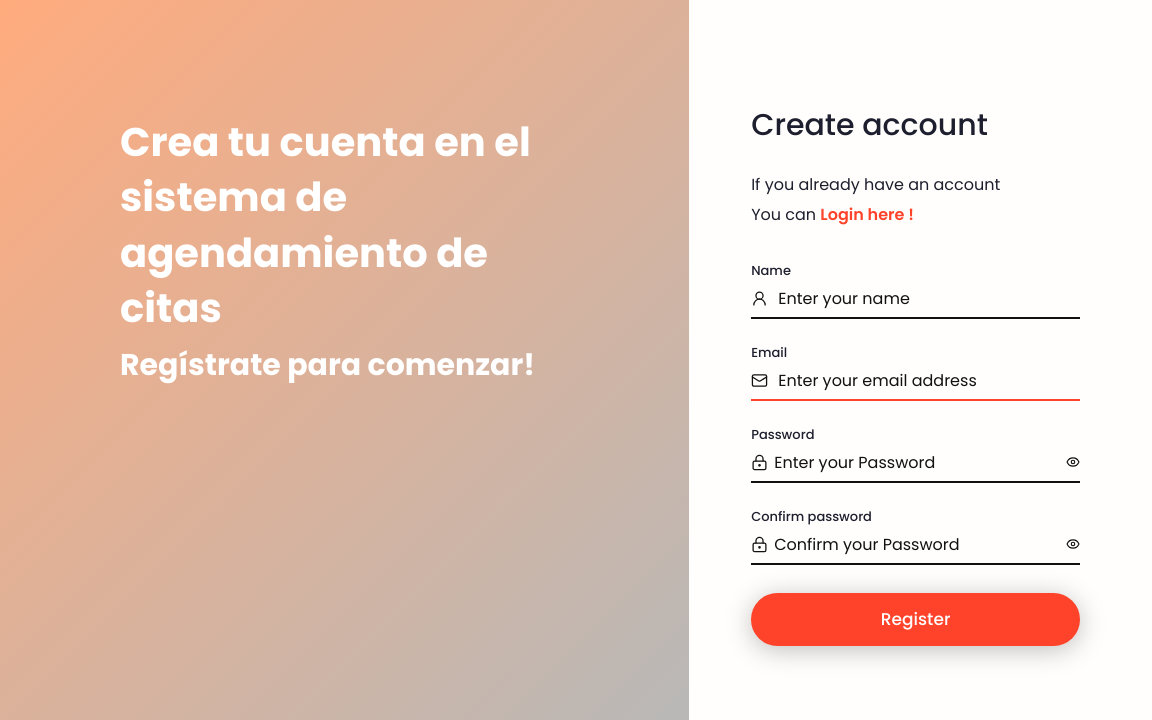
Test case: authentication forms › blocks registration when password confirmation differs
Step 1. Type "Demo User" into the field labelled "Name" → [929, 298], box [778,280,1080,317]
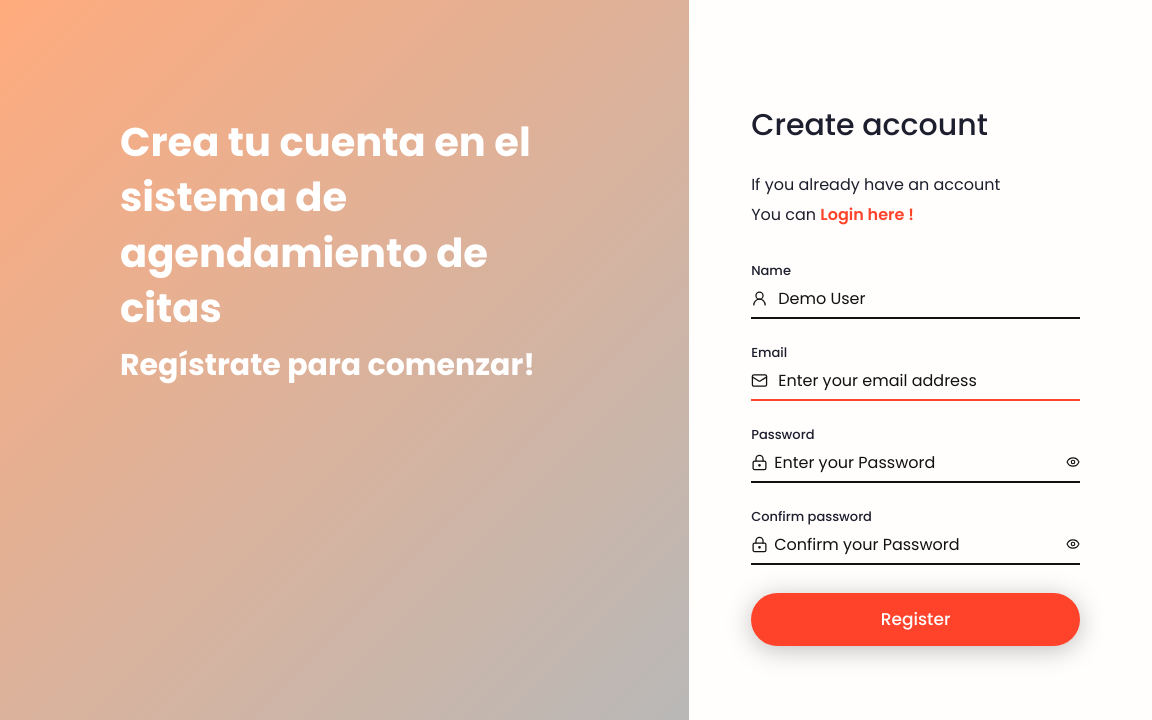
Step 2. Type "demo@example.com" into the field labelled "Email" → [929, 380], box [778,362,1080,399]
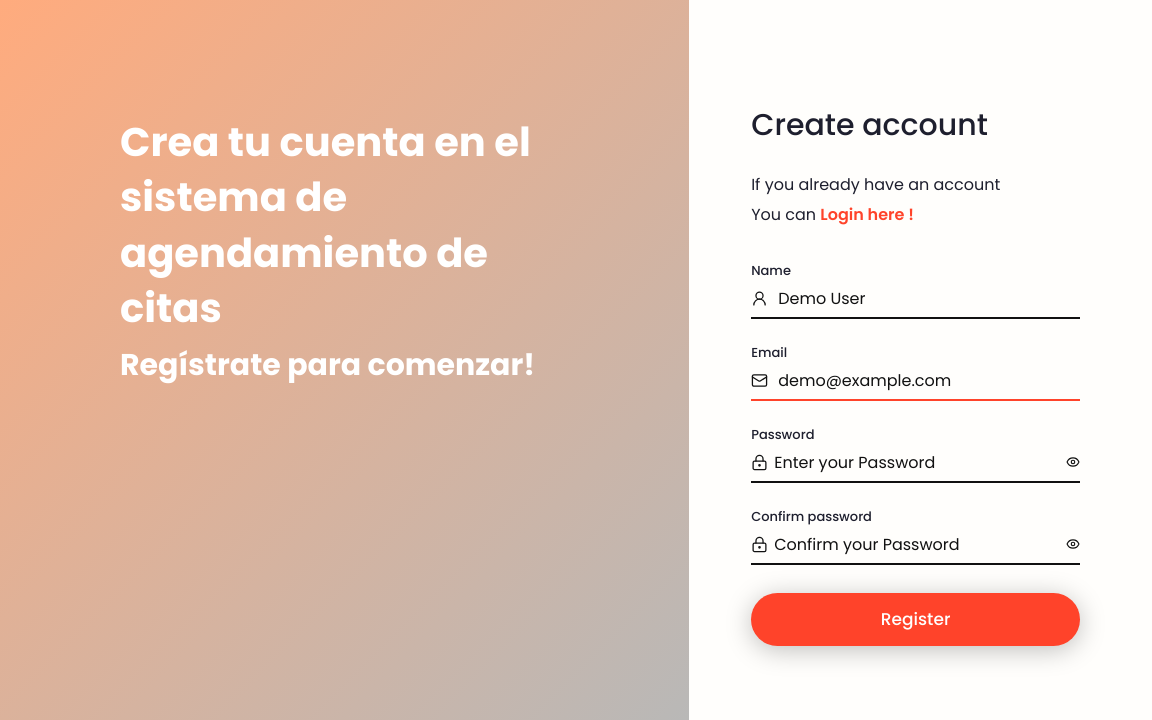
Step 3. Type "Strong-password-1" into the password field labelled "Password" → [920, 462], box [774,444,1066,481]
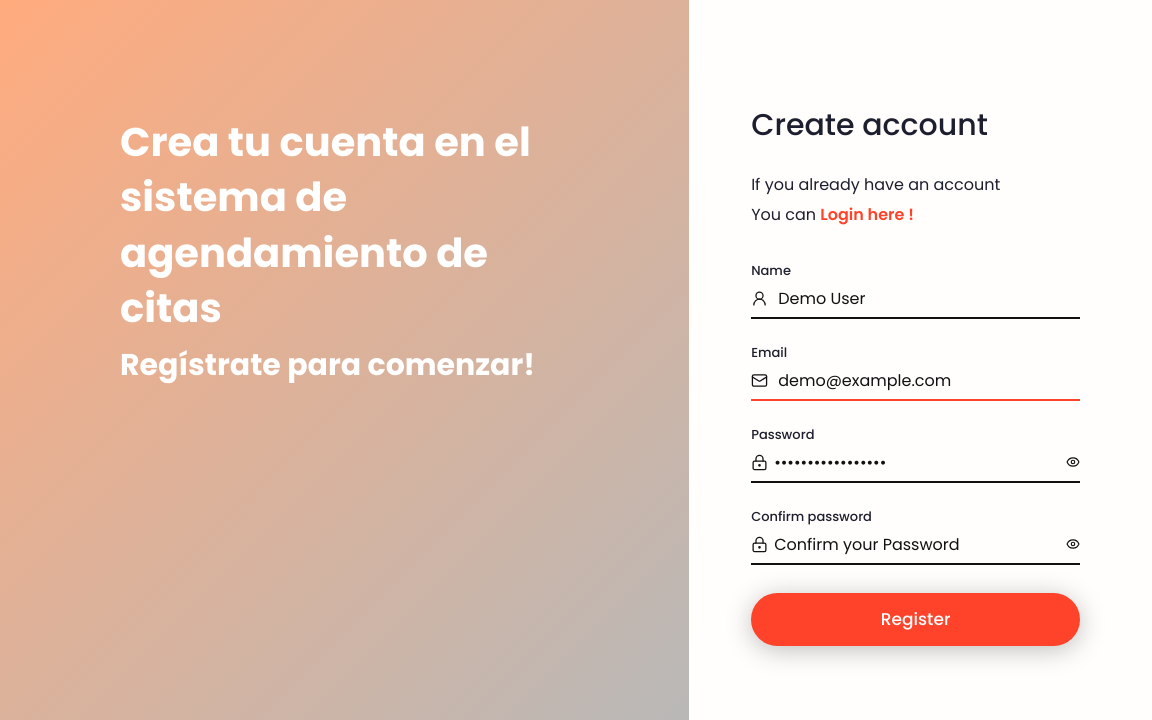
Step 4. Type "different-password" into the password field labelled "Confirm password" → [920, 544], box [774,526,1066,563]
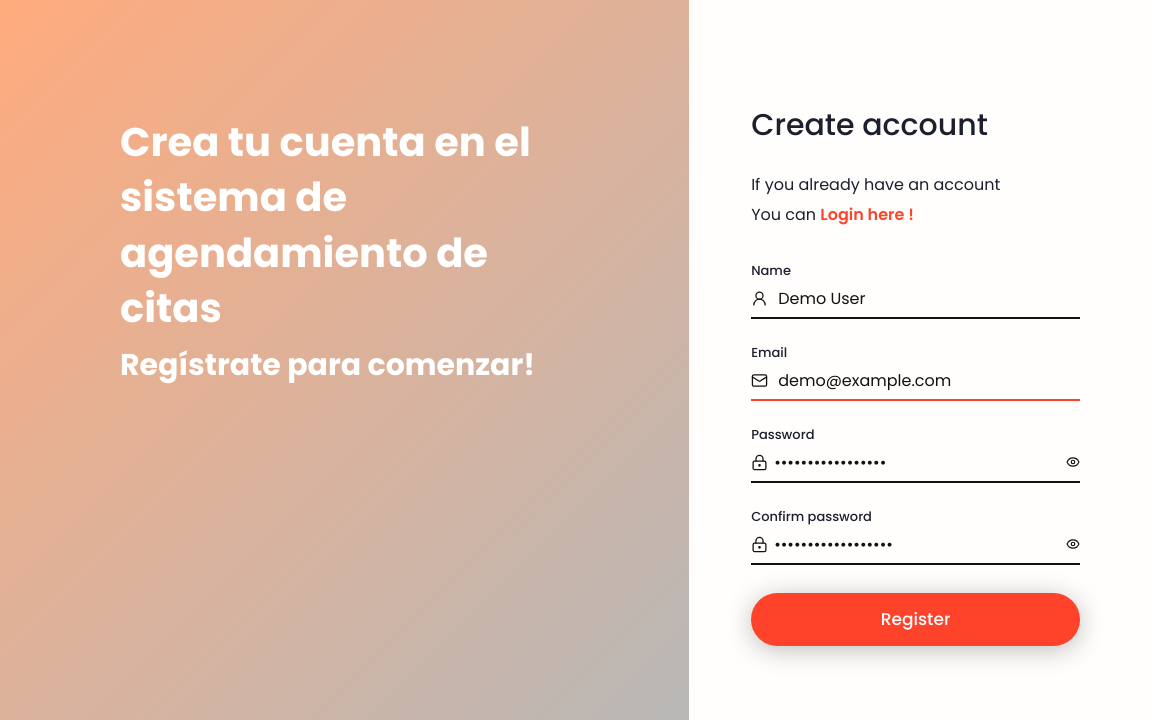
Step 5. Click the button "Register" → [916, 619], box [751,593,1080,646]
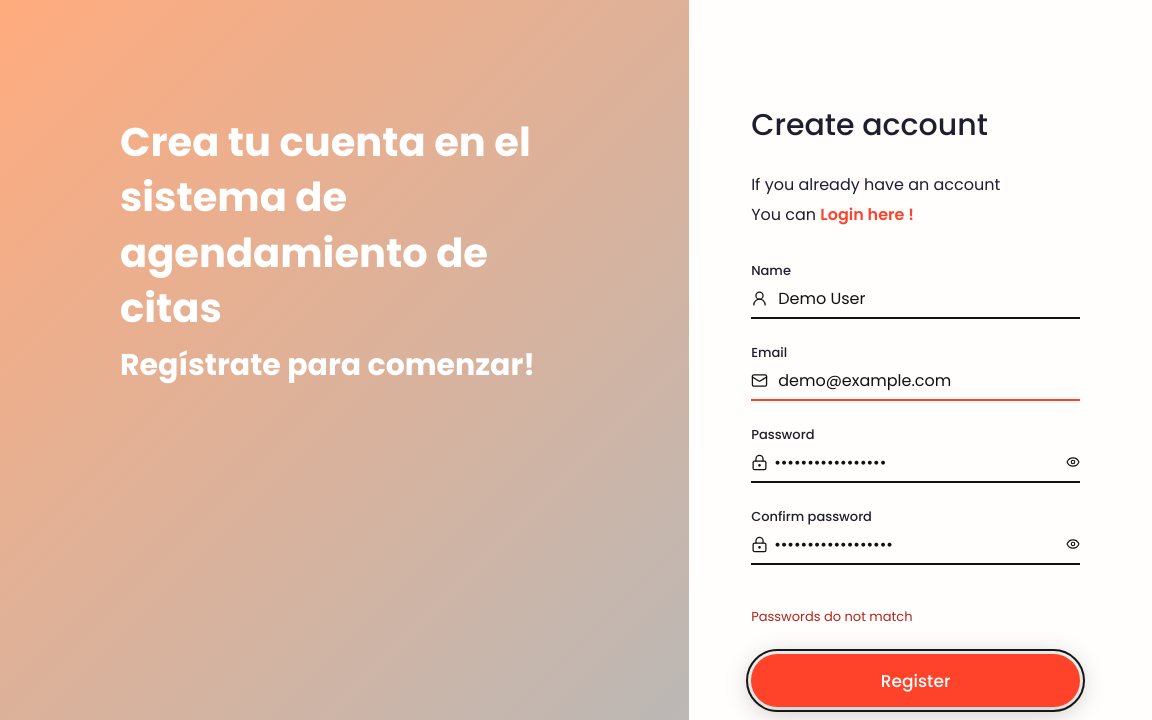
Expected: the message reads "Passwords do not match", [751,607,912,626]
